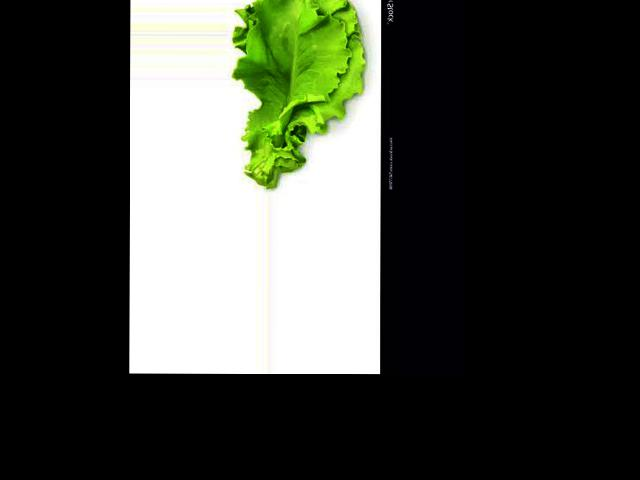lettuce: (241, 108, 409, 180)
